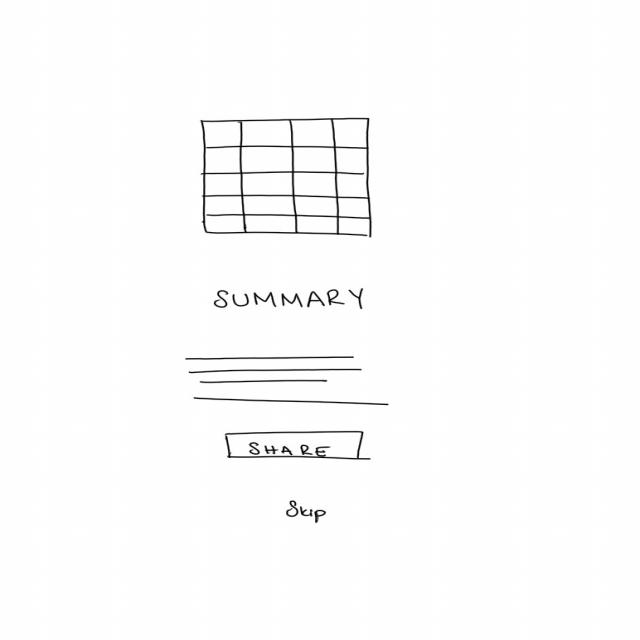button: (225, 430, 368, 463)
label: (213, 287, 369, 313), (284, 500, 330, 526)
table: (201, 117, 375, 241)
textbox: (183, 355, 392, 407)
